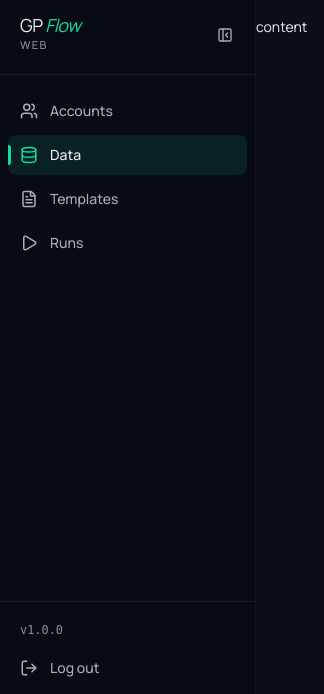
Test: AppShell (docs/ui-rules.md §8) › names icon-only controls with aria-label, never title
Click the button named "collapse sidebar". click: (225, 35)
box: [207,17,243,53]
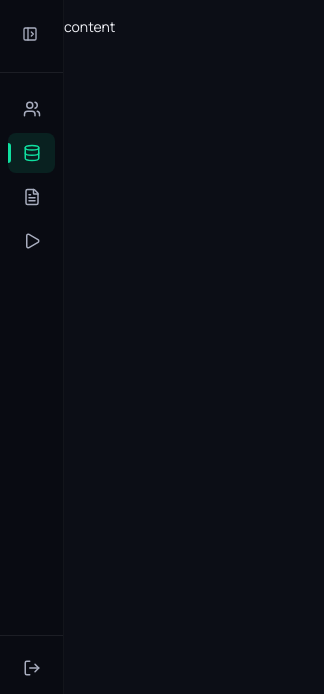
expect the button named "expand sidebar" is shown: met, box [12,16,48,52]
